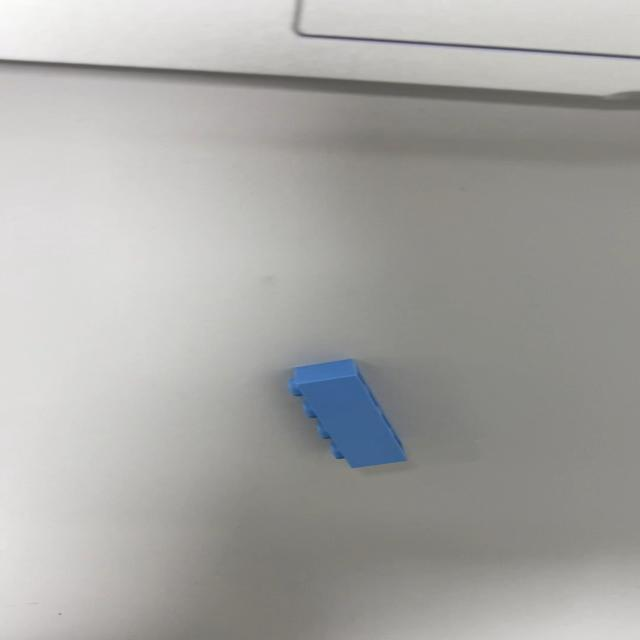C4x1x1: (284, 358, 407, 470)
